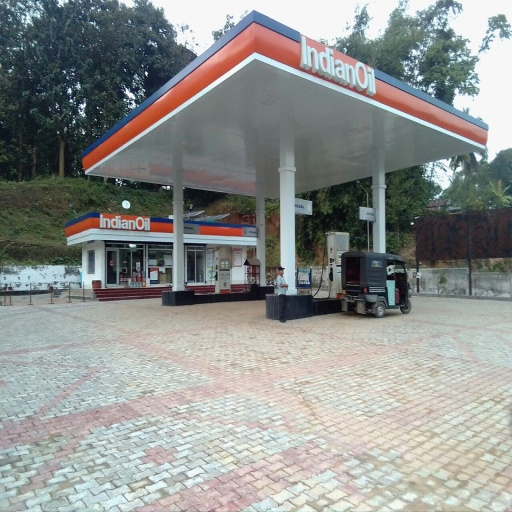roof: (75, 11, 486, 198)
